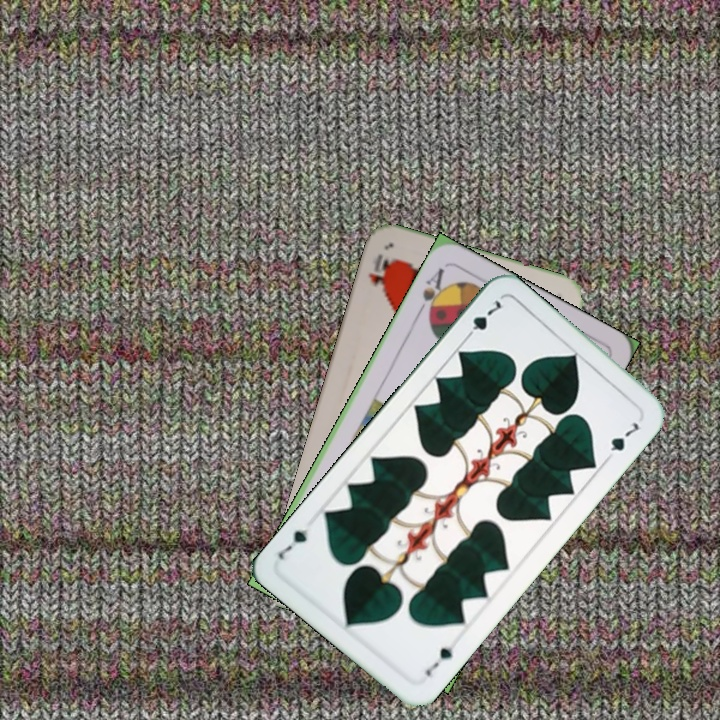G7: (460, 296, 504, 343), (421, 638, 460, 680)
HO: (364, 250, 396, 294)
SA: (413, 264, 449, 322)
